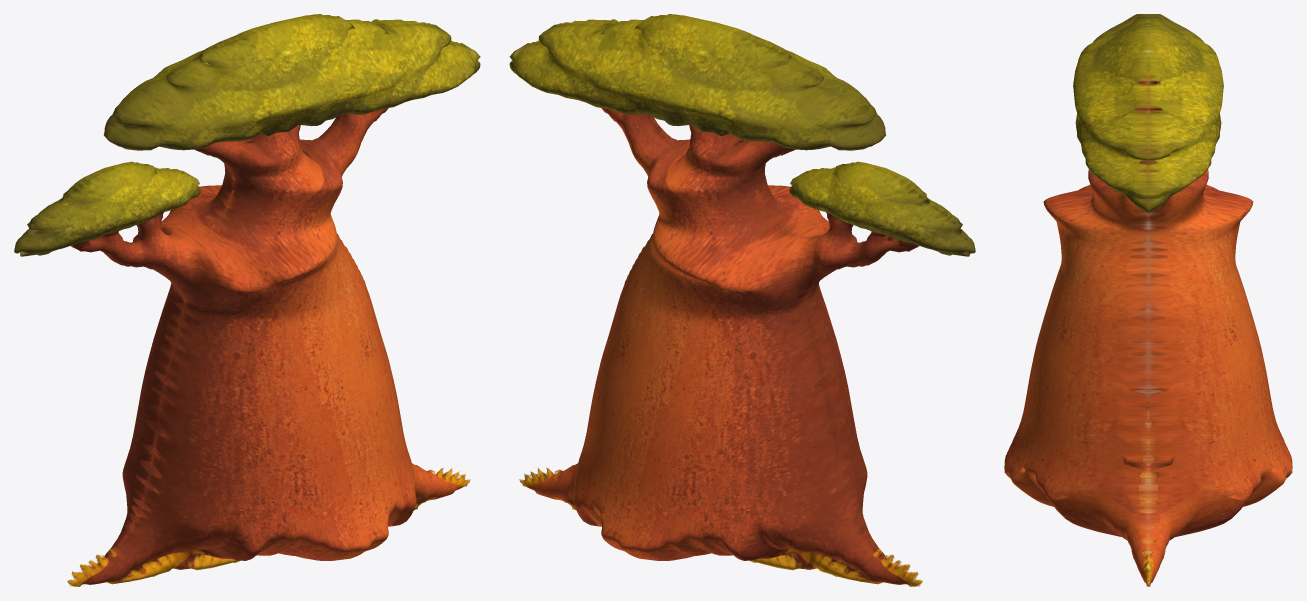
Rendered from layers_props_10_tree_baobab.glb.
The picture shows the model from 3 angles, left to right: view 1: azimuth 30°, elevation 25°; view 2: azimuth 150°, elevation 25°; view 3: azimuth 270°, elevation 25°; orthographic projection. The views are drawn at different scales.
Parts seen in each view (by area): view 1: layers_props_10_tree_baobab; view 2: layers_props_10_tree_baobab; view 3: layers_props_10_tree_baobab.
Part boxes in pixels (x1,y1,x2,y2): layers_props_10_tree_baobab: [14, 14, 480, 586]; layers_props_10_tree_baobab: [509, 14, 975, 586]; layers_props_10_tree_baobab: [1004, 14, 1292, 586].
Bounding box in the file's own units: 9.32 × 10.03 × 5.44.
1 material, 1 textured.
